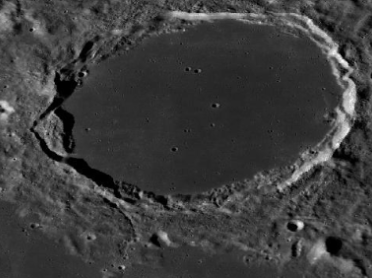crater: (9, 5, 370, 215)
